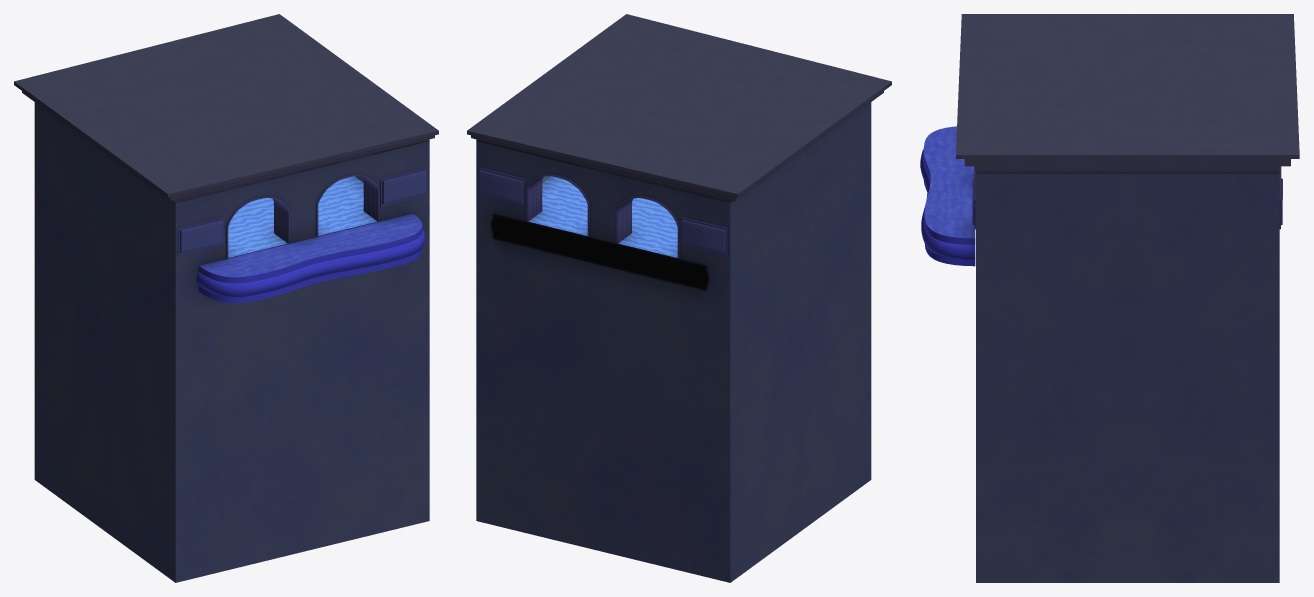
File: Building8.fbx
3 renders of one model, left to right at view 1: azimuth 30°, elevation 25°; view 2: azimuth 150°, elevation 25°; view 3: azimuth 270°, elevation 25°, orthographic. The views are drawn at different scales.
Parts seen in each view (by area): view 1: Cube.061, Cube, BézierCurve.004; view 2: Cube.061, Cube; view 3: Cube.061, Cube, BézierCurve.004.
Part boxes in pixels (bbox=[...]): Cube.061: bbox=[34, 102, 429, 582]; Cube: bbox=[14, 14, 438, 202]; BézierCurve.004: bbox=[197, 213, 424, 302]; Cube.061: bbox=[476, 102, 871, 582]; Cube: bbox=[467, 14, 891, 202]; Cube.061: bbox=[972, 166, 1282, 582]; Cube: bbox=[956, 14, 1299, 173]; BézierCurve.004: bbox=[920, 126, 975, 266].
Bounding box in the file's own units: 1227 × 1735 × 1394.
3 materials, 3 textured.
